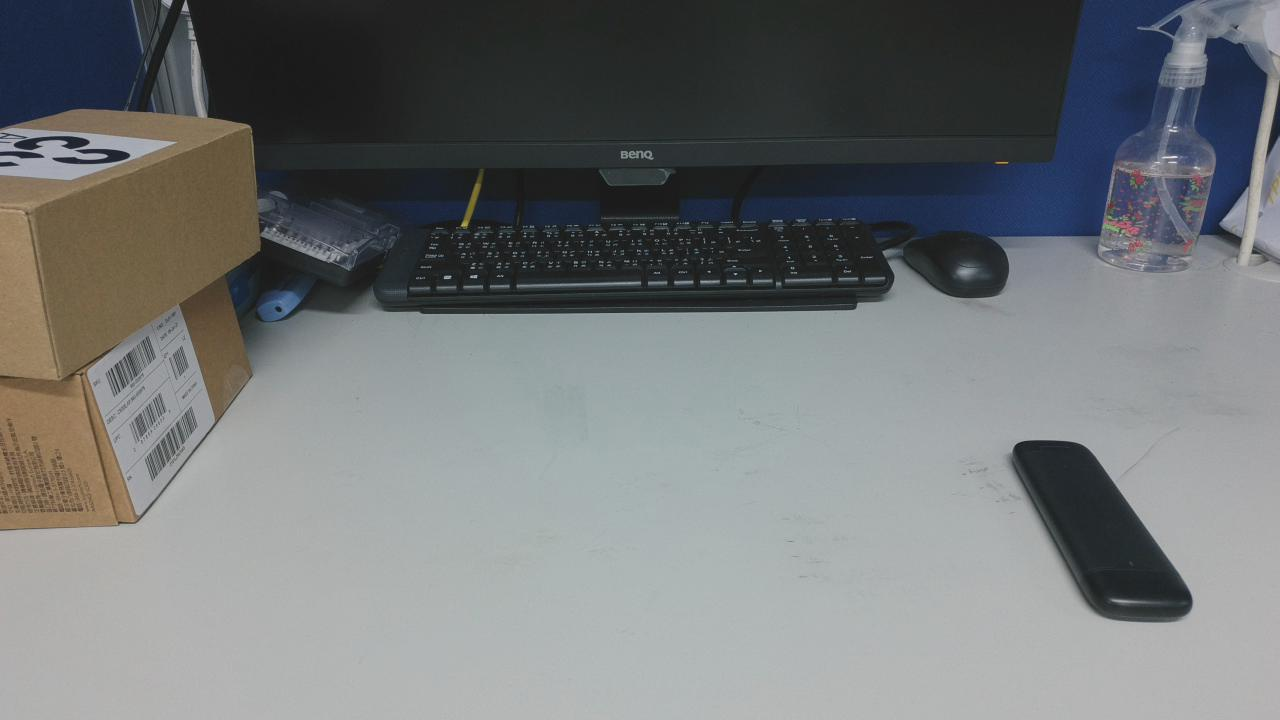blade: (335, 440, 419, 553)
grasp: (378, 375, 485, 451)
